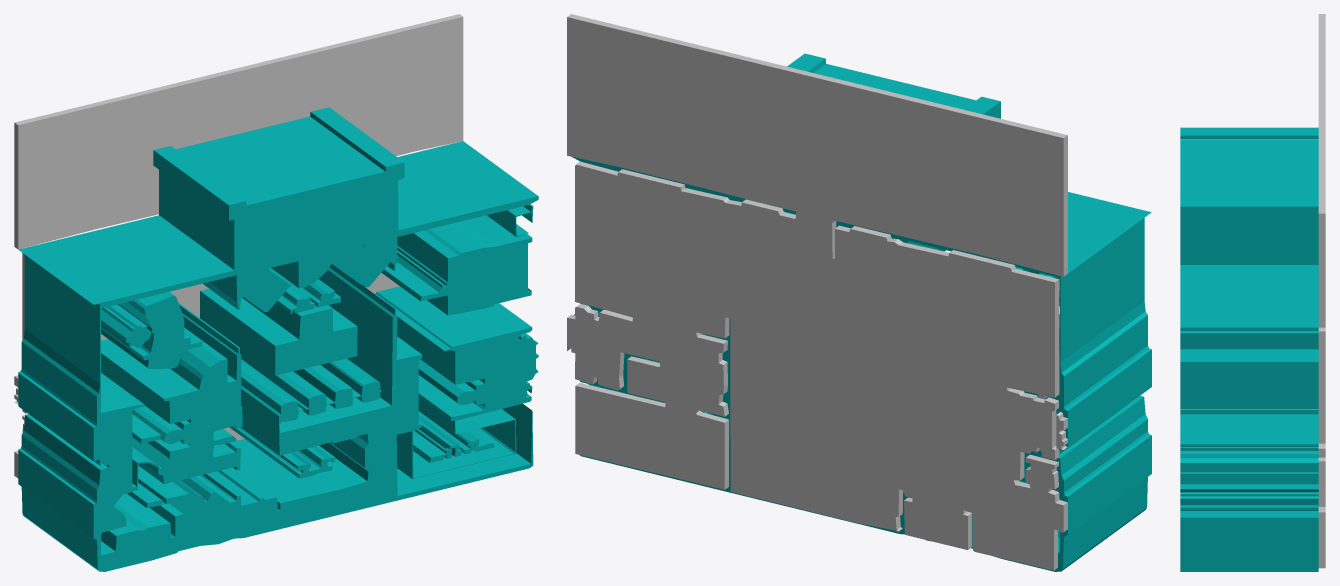
3 renders of one model, left to right at view 1: azimuth 30°, elevation 25°; view 2: azimuth 150°, elevation 25°; view 3: azimuth 270°, elevation 25°, orthographic. The views are drawn at different scales.
Parts seen in each view (by area): view 1: world; view 2: world; view 3: world.
Part boxes in pixels (<box>): world: <box>14,14,538,571</box>; world: <box>567,14,1151,571</box>; world: <box>1180,14,1325,571</box>.
Bounding box in the file's own units: 10.23 × 8.66 × 3.15.
